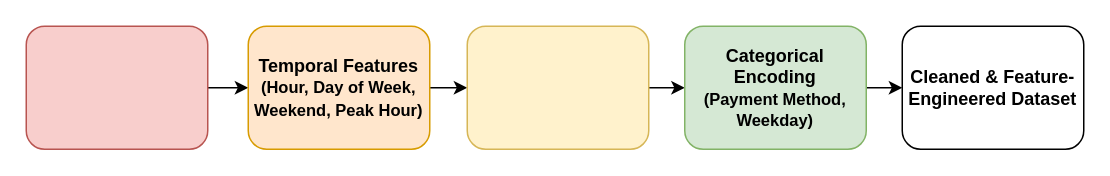
This 1110x176 diagram has some shape labels left out. The shapes that lost their labels are listed below. From the top down, each one's centre as x and y in pixels, then its label:
At point (116, 87): "Raw Trip Data".
At point (557, 87): "Trip-Derived Features (Fare per km, Tip ratio, Distance Engineering)".
